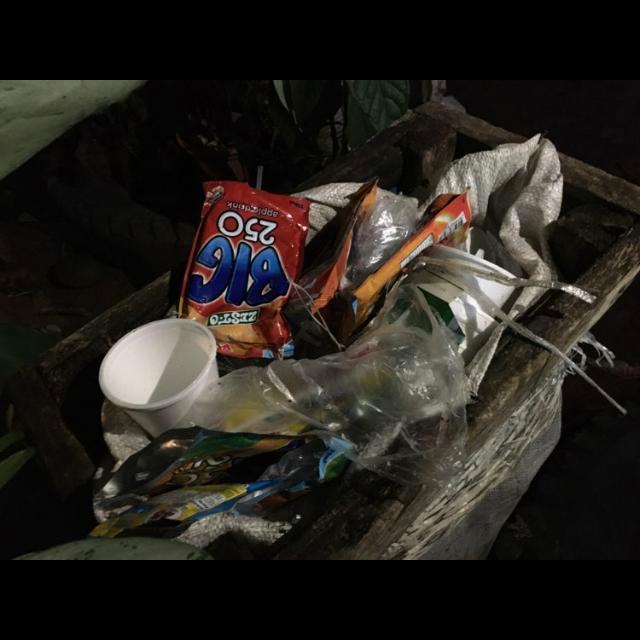food_wrapper: (88, 427, 352, 540), (177, 182, 313, 362), (352, 194, 473, 332), (284, 177, 379, 327)
plastic_bag: (189, 286, 468, 506)
plastic_container: (97, 319, 218, 440)
